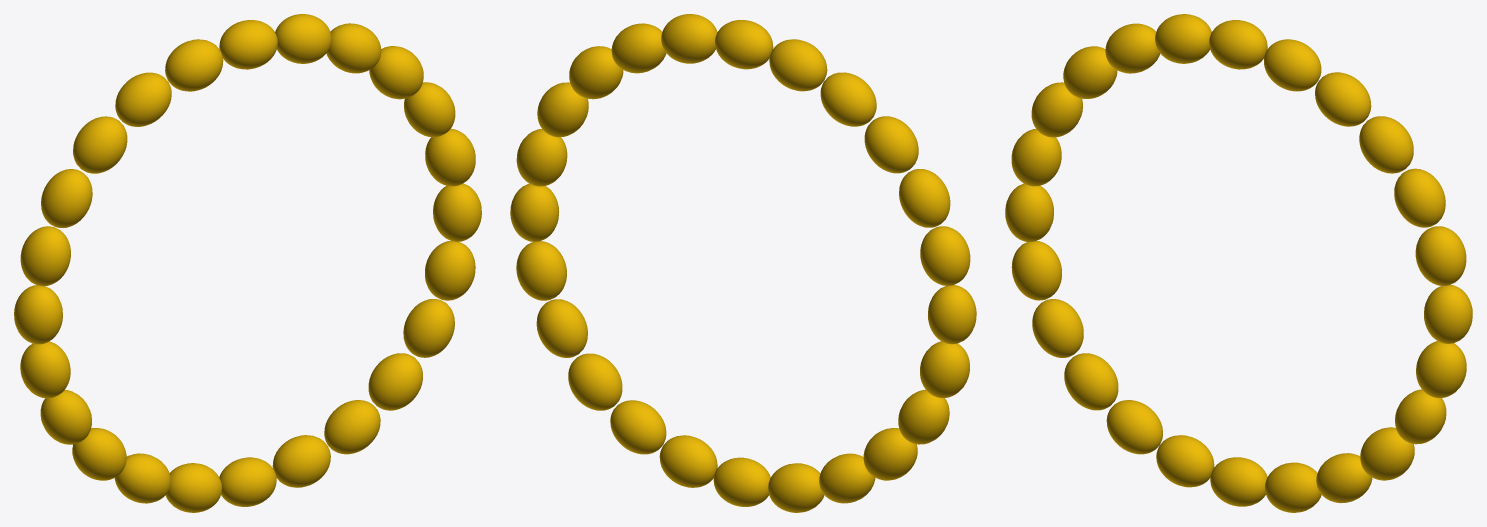
Rendered from YellowRing.fbx.
3 views of the same model, side by side, from view 1: azimuth 30°, elevation 25°; view 2: azimuth 150°, elevation 25°; view 3: azimuth 330°, elevation 25° (orthographic).
Parts seen in each view (by area): view 1: Sphere.018, Sphere.019, Sphere.014, Sphere.015, Sphere.022, Sphere.021, Sphere.017, Sphere.016, Sphere.020, Sphere.023, Sphere.013, Sphere (+12 smaller); view 2: Sphere.018, Sphere.019, Sphere.014, Sphere.022, Sphere.015, Sphere.017, Sphere.021, Sphere.016, Sphere.020, Sphere.023, Sphere.013, Sphere (+12 smaller); view 3: Sphere.006, Sphere.007, Sphere.010, Sphere.009, Sphere.005, Sphere.008, Sphere.011, Sphere.004, Sphere.003, Sphere.002, Sphere.012, Sphere (+12 smaller).
Part boxes in pixels (bbox=[...]): Sphere.018: bbox=[368, 353, 422, 410]; Sphere.019: bbox=[73, 116, 127, 173]; Sphere.014: bbox=[425, 241, 475, 300]; Sphere.015: bbox=[20, 226, 70, 286]; Sphere.022: bbox=[272, 435, 330, 487]; Sphere.021: bbox=[115, 72, 171, 126]; Sphere.017: bbox=[41, 169, 92, 227]; Sphere.016: bbox=[403, 299, 454, 357]; Sphere.020: bbox=[324, 400, 380, 454]; Sphere.023: bbox=[165, 39, 223, 91]; Sphere.013: bbox=[14, 285, 62, 344]; Sphere: bbox=[219, 20, 277, 69]; Sphere.018: bbox=[568, 353, 622, 410]; Sphere.019: bbox=[864, 116, 918, 173]; Sphere.014: bbox=[516, 241, 566, 300]; Sphere.022: bbox=[659, 435, 717, 487]; Sphere.015: bbox=[920, 226, 970, 285]; Sphere.017: bbox=[899, 169, 950, 227]; Sphere.021: bbox=[820, 72, 876, 126]; Sphere.016: bbox=[536, 299, 587, 357]; Sphere.020: bbox=[610, 400, 666, 454]; Sphere.023: bbox=[769, 39, 827, 91]; Sphere.013: bbox=[928, 285, 976, 344]; Sphere: bbox=[715, 20, 773, 69]; Sphere.006: bbox=[1359, 116, 1413, 173]; Sphere.007: bbox=[1064, 353, 1118, 410]; Sphere.010: bbox=[1415, 226, 1466, 285]; Sphere.009: bbox=[1032, 299, 1083, 357]; Sphere.005: bbox=[1106, 400, 1162, 454]; Sphere.008: bbox=[1394, 168, 1445, 227]; Sphere.011: bbox=[1011, 241, 1061, 300]; Sphere.004: bbox=[1315, 72, 1371, 126]; Sphere.003: bbox=[1156, 435, 1214, 487]; Sphere.002: bbox=[1264, 39, 1321, 91]; Sphere.012: bbox=[1424, 285, 1472, 343]; Sphere: bbox=[1209, 20, 1267, 69].
Bounding box in the file's own units: 434 × 434 × 41.97.
